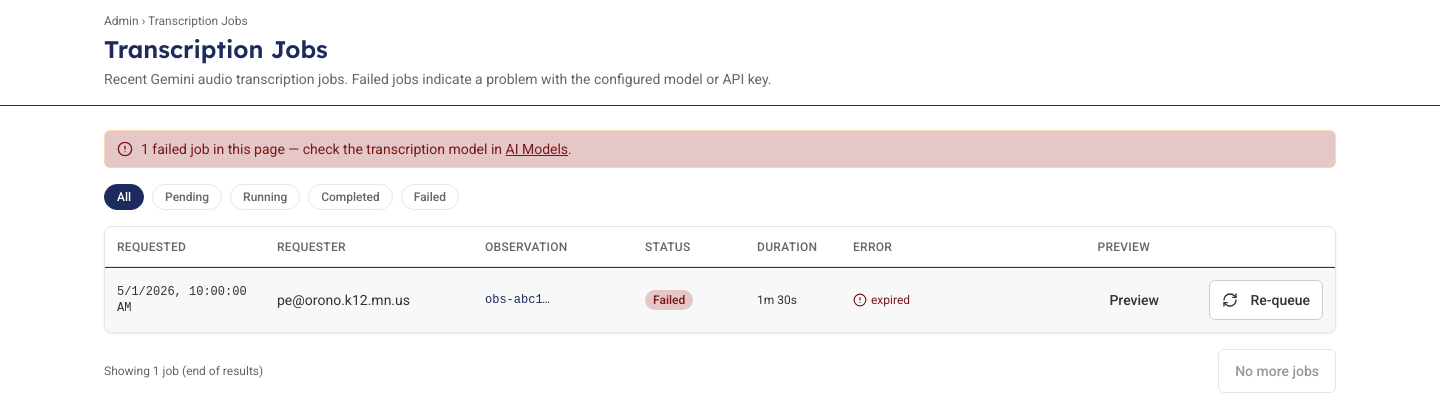
re-queue action › shows Queued text after a successful re-queue
Click the button with aria-label "re-queue failed transcription job": (1266, 300) left=1209, top=280, right=1323, bottom=320
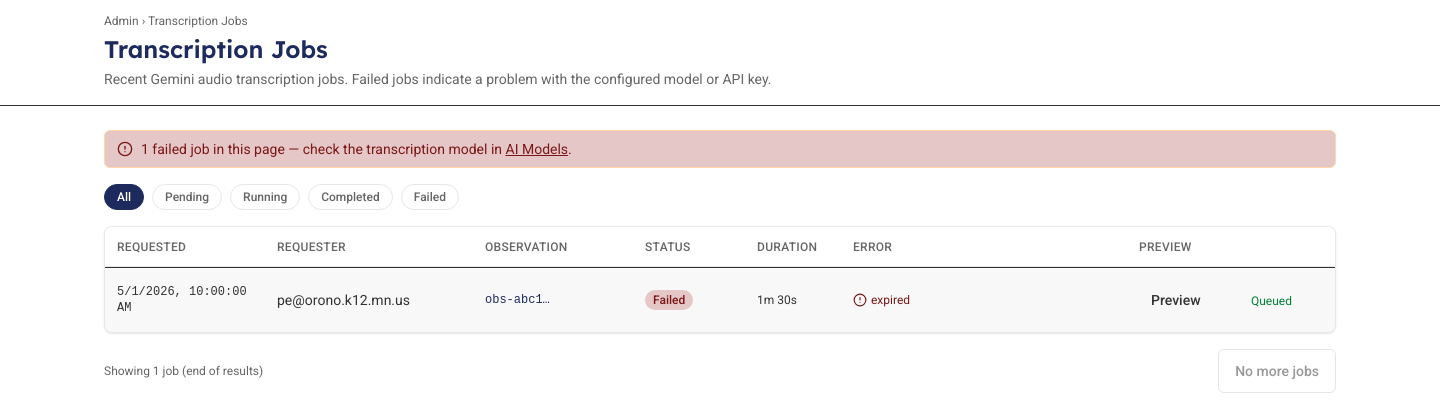
Expected: the text "Queued" is shown, left=1251, top=294, right=1292, bottom=308
